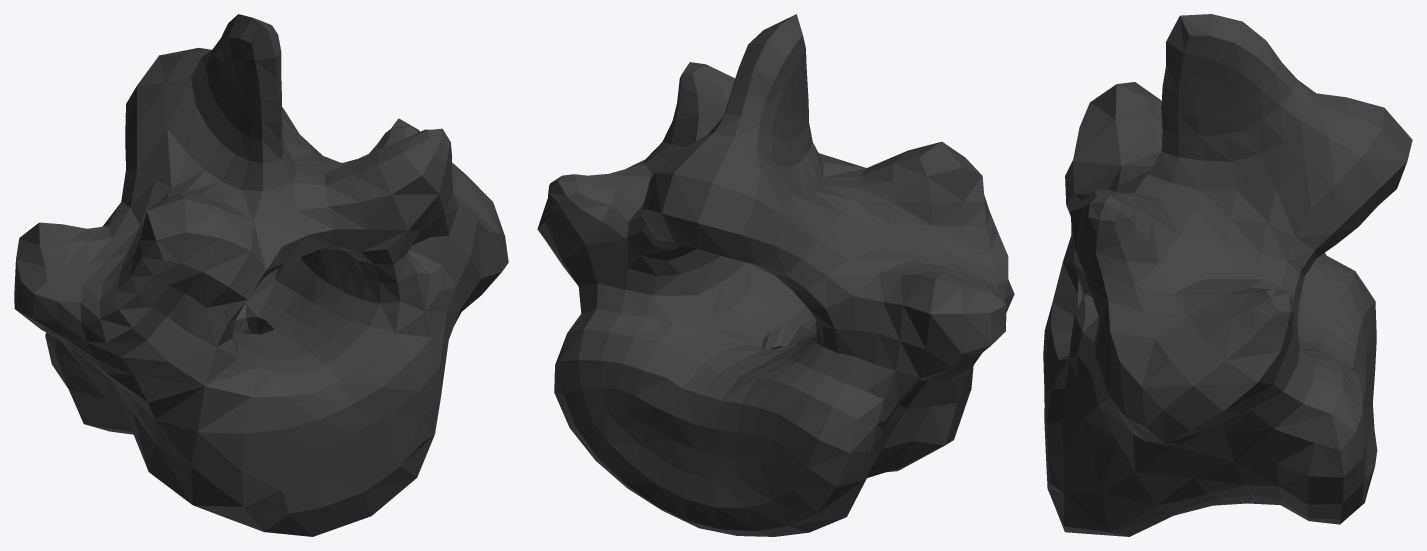
3 renders of one model, left to right at view 1: azimuth 30°, elevation 25°; view 2: azimuth 150°, elevation 25°; view 3: azimuth 270°, elevation 25°, orthographic. The views are drawn at different scales.
Parts seen in each view (by area): view 1: T11; view 2: T11; view 3: T11.
Part boxes in pixels (bbox=[...]): T11: bbox=[14, 14, 508, 536]; T11: bbox=[537, 14, 1014, 536]; T11: bbox=[1043, 14, 1412, 536].
Bounding box in the file's own units: 2.19 × 2.18 × 1.44.
Materials: 1 (1 with a texture image).
